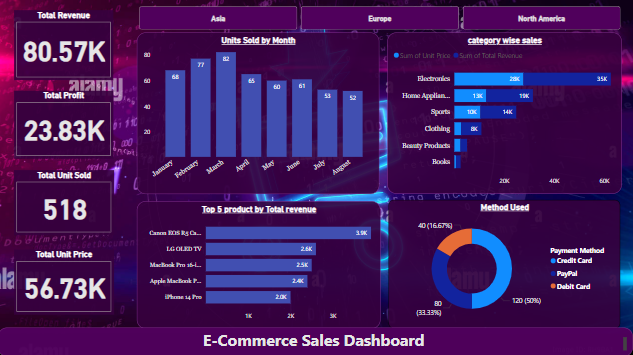

This screenshot's page, from the dashboard's own definition file:
{"tool":"powerbi","page":{"name":"Page 1","canvas":[1280,720],"ordinal":0},"visuals":[{"type":"clusteredColumnChart","title":"Units Sold by Month","fields":{"Y":["Sum(Online Sales Data.Units Sold)"],"Category":["Online Sales Data.Date.Variation.Date Hierarchy.Month"]},"box":[279.6,66.4,488.8,325.9],"z":0},{"type":"barChart","title":"category wise sales ","fields":{"Category":["Online Sales Data.Product Category"],"Y":["Sum(Online Sales Data.Unit Price)","Sum(Online Sales Data.Total Revenue)"]},"box":[785,67.5,472.5,325],"z":1000},{"type":"donutChart","title":"Method Used","fields":{"Category":["Online Sales Data.Payment Method"],"Y":["CountNonNull(Online Sales Data.Payment Method)"],"Series":["Online Sales Data.Payment Method"]},"box":[786.9,405.4,467.3,259.6],"z":2000},{"type":"clusteredBarChart","title":"Top 5 product by Total revenue  ","fields":{"Category":["Online Sales Data.Product Name"],"Y":["Sum(Online Sales Data.Total Revenue)"]},"box":[279.6,407.4,491.3,257.6],"z":3000},{"type":"cardVisual","title":"Total Revenue","fields":{"Data":["Sum(Online Sales Data.Total Revenue)"]},"box":[33.3,21.6,200,141.2],"z":4000},{"type":"cardVisual","title":"Total Unit Sold","fields":{"Data":["Sum(Online Sales Data.Units Sold)"]},"box":[31.4,345.1,202,131.4],"z":5000},{"type":"cardVisual","title":"Total Unit Price","fields":{"Data":["Sum(Online Sales Data.Unit Price)"]},"box":[31.4,503.9,202,131.4],"z":6000},{"type":"advancedSlicerVisual","fields":{"Values":["Online Sales Data.Region"]},"box":[280,10,980,57.5],"z":6001},{"type":"textbox","box":[0,663,1280.1,57.9],"z":6002},{"type":"cardVisual","title":"Total Profit","fields":{"Data":["Sum(Online Sales Data.Profit)"]},"box":[33.3,184.3,200,137.3],"z":6003}]}

Visuals, with their boxes in screenshot pixels (x1, y1, x2, y2), scaled from the page's 1280x720 canvas onto the 633x355 screenshot:
"Units Sold by Month" clusteredColumnChart: [x1=138, y1=33, x2=380, y2=193]
"category wise sales " barChart: [x1=388, y1=33, x2=622, y2=194]
"Method Used" donutChart: [x1=389, y1=200, x2=620, y2=328]
"Top 5 product by Total revenue  " clusteredBarChart: [x1=138, y1=201, x2=381, y2=328]
"Total Revenue" cardVisual: [x1=16, y1=11, x2=115, y2=80]
"Total Unit Sold" cardVisual: [x1=16, y1=170, x2=115, y2=235]
"Total Unit Price" cardVisual: [x1=16, y1=248, x2=115, y2=313]
advancedSlicerVisual - Online Sales Data.Region: [x1=138, y1=5, x2=623, y2=33]
textbox: [x1=0, y1=327, x2=632, y2=354]
"Total Profit" cardVisual: [x1=16, y1=91, x2=115, y2=159]
